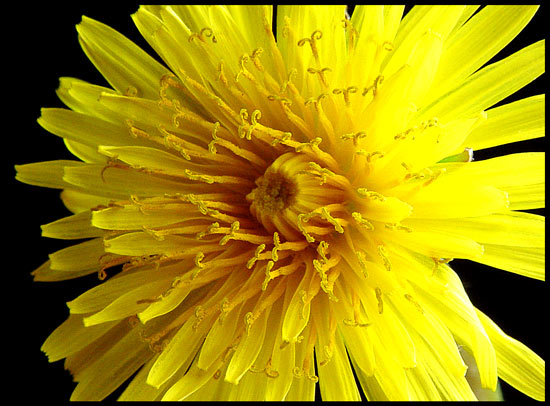dandelion: (42, 8, 536, 403)
